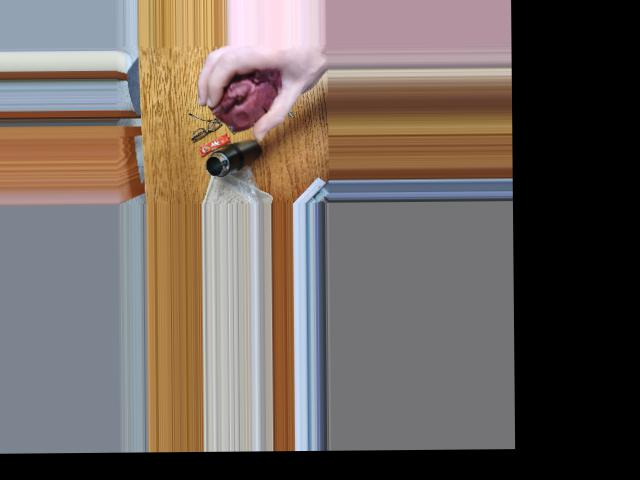onion: (218, 71, 282, 116)
